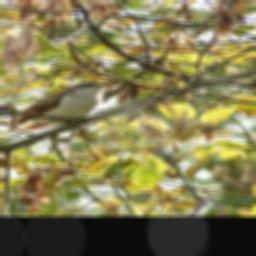Cuckoo: (0, 76, 123, 129)
